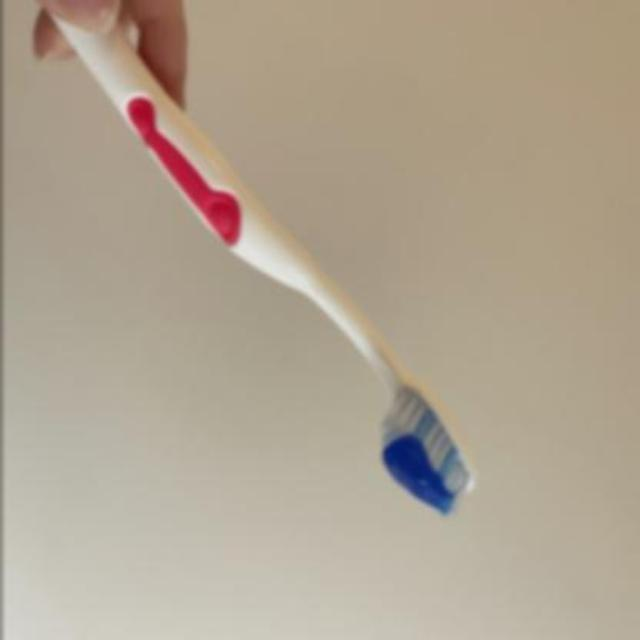toothbrush: (45, 71, 485, 529)
